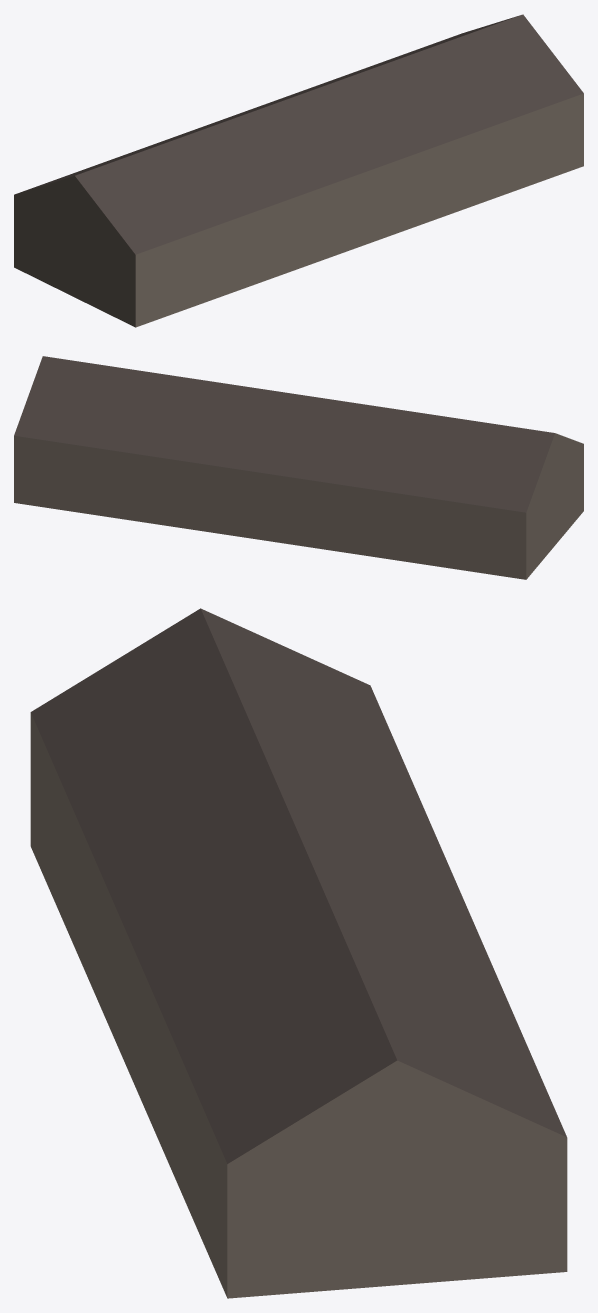
3 renders of one model, top to bottom at view 1: azimuth 30°, elevation 25°; view 2: azimuth 150°, elevation 25°; view 3: azimuth 270°, elevation 25°, orthographic. The views are drawn at different scales.
Parts seen in each view (by area): view 1: HP-w858807456; view 2: HP-w858807456; view 3: HP-w858807456.
Boxes of the visible parts, x1,y1,x2,y2 form: HP-w858807456: (14, 14, 583, 327); HP-w858807456: (14, 356, 583, 579); HP-w858807456: (30, 608, 567, 1298).
Size of the model in its own units: 22.92 by 5.02 by 10.85.
